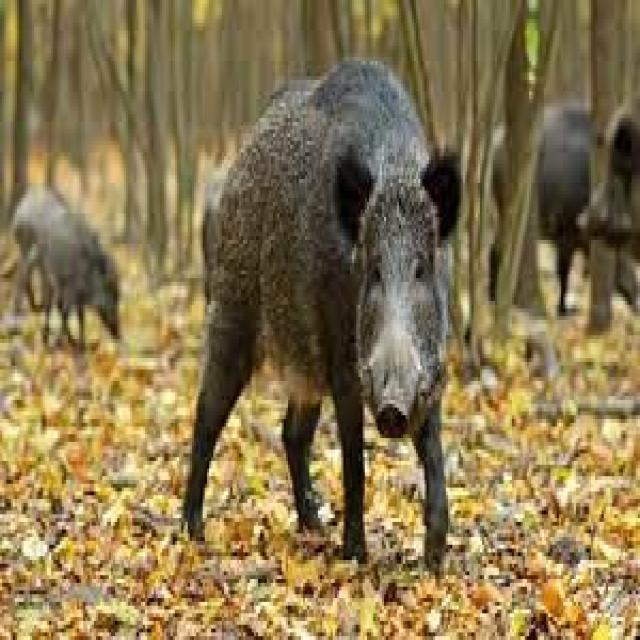boar: (148, 20, 491, 581)
